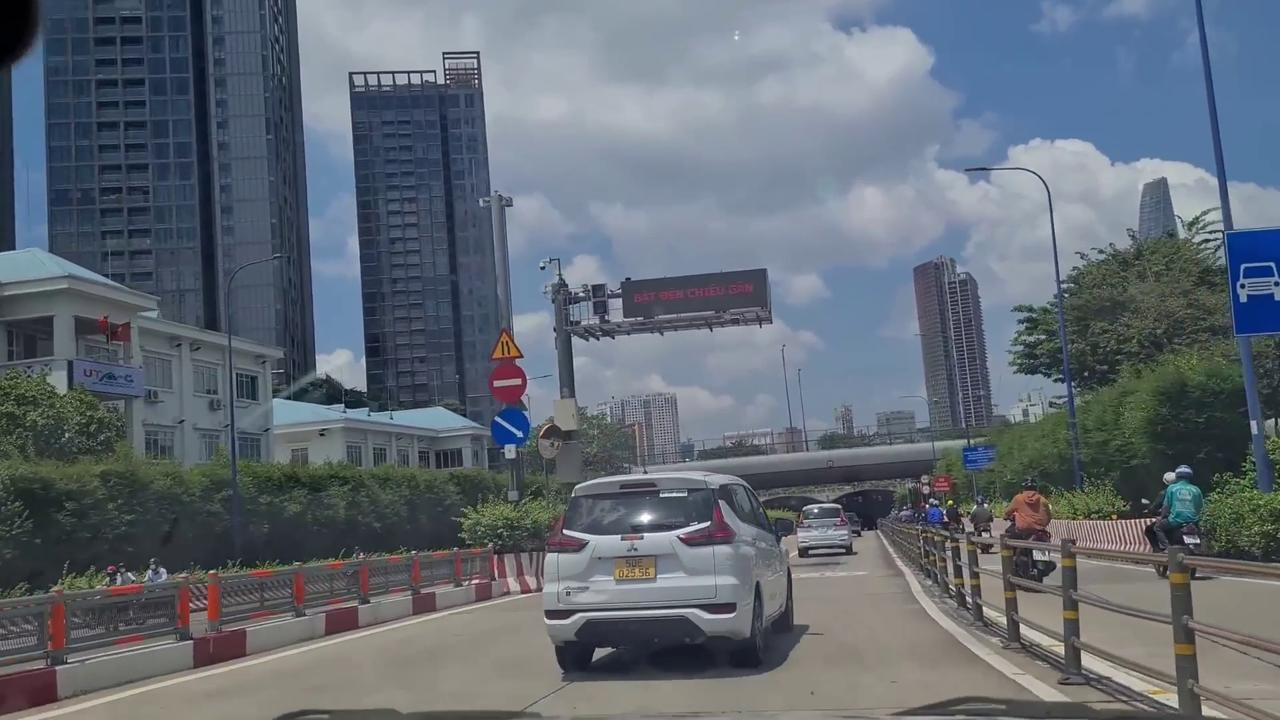Cấm đi ngược chiều: (489, 363, 528, 405)
Hướng phải đi vòng sang phải: (491, 406, 530, 447)
Đuờng hẹp: (487, 328, 526, 360)
